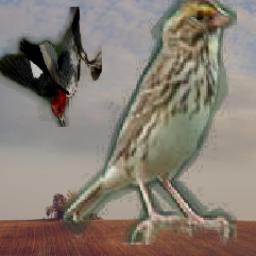Sparrow: (63, 0, 237, 245)
Woodpecker: (0, 8, 101, 128)
